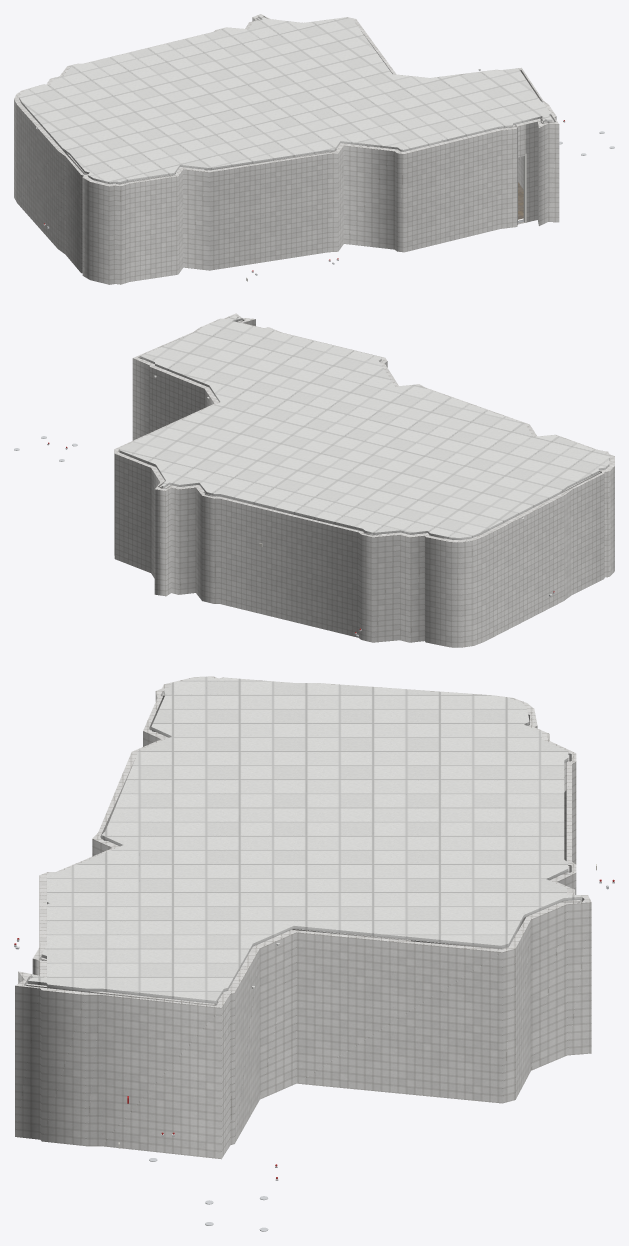
The model's file is cocina_alta_7ea137432fcf.glb.
3 renders of one model, top to bottom at view 1: azimuth 30°, elevation 25°; view 2: azimuth 150°, elevation 25°; view 3: azimuth 270°, elevation 25°, orthographic. The views are drawn at different scales.
Parts seen in each view (by area): view 1: Z_cocina_tile_w, Z_cocina_ceil; view 2: Z_cocina_ceil, Z_cocina_tile_w; view 3: Z_cocina_ceil, Z_cocina_tile_w.
Boxes of the visible parts, bbox=[...] form: Z_cocina_tile_w: bbox=[14, 14, 559, 284]; Z_cocina_ceil: bbox=[19, 15, 552, 184]; Z_cocina_ceil: bbox=[120, 315, 609, 539]; Z_cocina_tile_w: bbox=[114, 313, 614, 647]; Z_cocina_ceil: bbox=[27, 676, 582, 1003]; Z_cocina_tile_w: bbox=[15, 676, 591, 1159].
Size of the model in its own units: 17.2 by 3.08 by 10.81.
35 materials, 4 textured.
